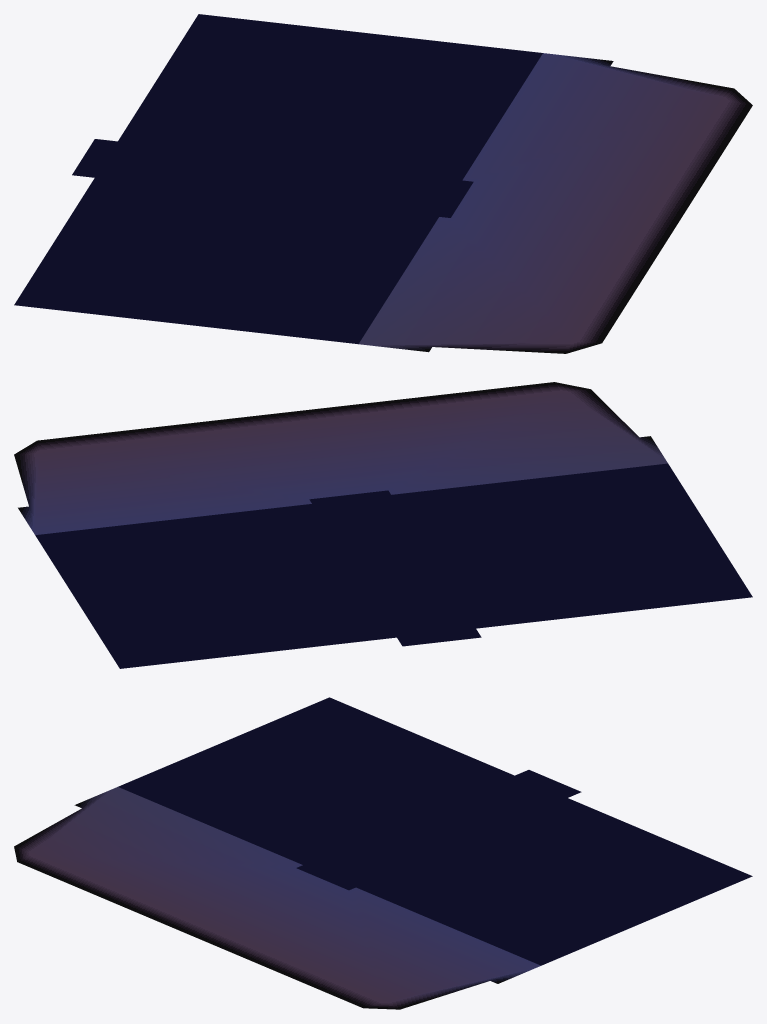
The picture shows the model from 3 angles, top to bottom: view 1: azimuth 30°, elevation 25°; view 2: azimuth 150°, elevation 25°; view 3: azimuth 270°, elevation 25°; orthographic projection. The views are drawn at different scales.
Visible parts, largest first — view 1: Joint_0_Object_0; view 2: Joint_0_Object_0; view 3: Joint_0_Object_0.
Part boxes in pixels (left/top/right/bottom): Joint_0_Object_0: left=14, top=14, right=752, bottom=353; Joint_0_Object_0: left=14, top=382, right=752, bottom=668; Joint_0_Object_0: left=14, top=697, right=752, bottom=1009.
Bounding box in the file's own units: 426 × 0 × 426.
Materials: 1 (1 with a texture image).
